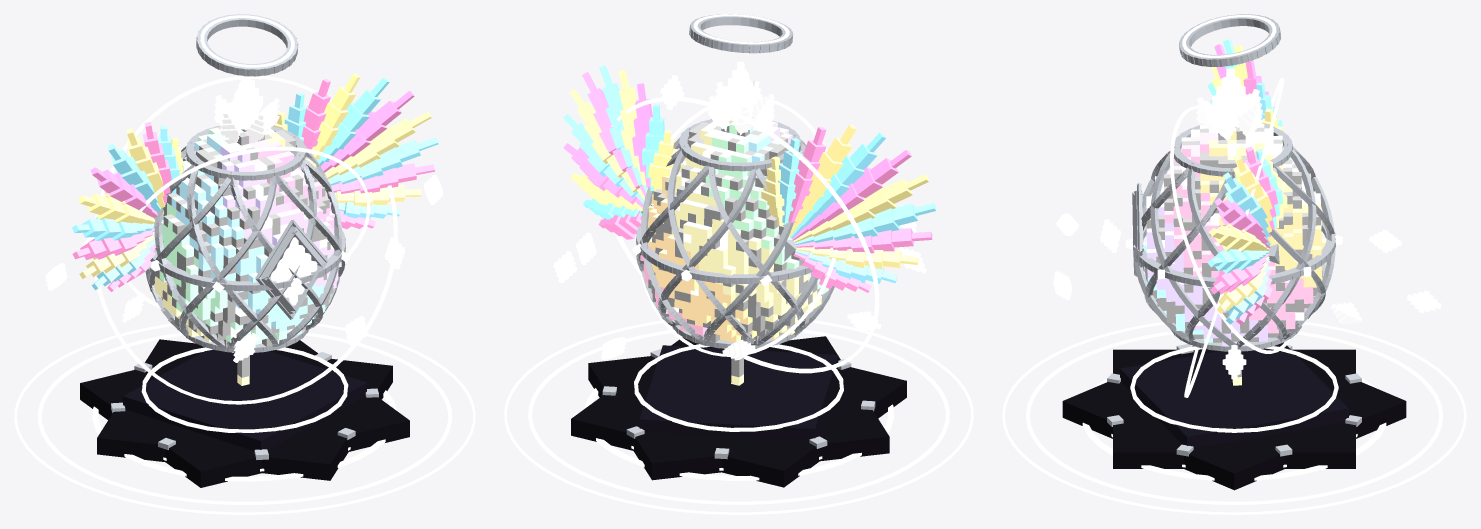
The model's file is egg_secreto_prisma.glb.
The picture shows the model from 3 angles, left to right: view 1: azimuth 30°, elevation 25°; view 2: azimuth 150°, elevation 25°; view 3: azimuth 270°, elevation 25°; orthographic projection.
Parts seen in each view (by area): view 1: root_geo, shell_geo, egg_geo, wing_L_geo, wing_R_geo, floor_rings_geo, emblem_geo, orbit1_geo, halo_geo, crown_geo, orbit2_geo; view 2: root_geo, shell_geo, wing_R_geo, egg_geo, wing_L_geo, floor_rings_geo, orbit1_geo, crown_geo, halo_geo, orbit2_geo; view 3: root_geo, shell_geo, egg_geo, wing_L_geo, floor_rings_geo, crown_geo, halo_geo, wing_R_geo, orbit2_geo, orbit1_geo, emblem_geo, float0_geo.
Boxes of the visible parts, box(x1,y1,x2,y2) form: root_geo: box(80, 339, 409, 487); shell_geo: box(149, 126, 341, 385); egg_geo: box(145, 125, 349, 352); wing_L_geo: box(273, 73, 438, 229); wing_R_geo: box(72, 122, 184, 291); floor_rings_geo: box(14, 323, 475, 514); emblem_geo: box(255, 219, 328, 319); orbit1_geo: box(92, 75, 397, 404); halo_geo: box(196, 14, 298, 76); crown_geo: box(214, 76, 279, 143); orbit2_geo: box(128, 146, 370, 308); root_geo: box(571, 336, 906, 487); shell_geo: box(640, 117, 828, 385); wing_R_geo: box(761, 124, 936, 292); egg_geo: box(632, 119, 834, 348); wing_L_geo: box(563, 65, 676, 239); floor_rings_geo: box(504, 320, 973, 514); orbit1_geo: box(610, 96, 879, 373); crown_geo: box(707, 61, 774, 135); halo_geo: box(689, 14, 793, 53); orbit2_geo: box(636, 97, 837, 356); root_geo: box(1062, 342, 1406, 490); shell_geo: box(1143, 124, 1326, 385); egg_geo: box(1125, 123, 1342, 351); wing_L_geo: box(1207, 146, 1287, 324); floor_rings_geo: box(1002, 322, 1466, 514); crown_geo: box(1196, 67, 1262, 140); halo_geo: box(1179, 14, 1280, 66); wing_R_geo: box(1207, 39, 1282, 130); orbit2_geo: box(1170, 106, 1290, 353); orbit1_geo: box(1184, 78, 1284, 397); emblem_geo: box(1132, 182, 1144, 282); float0_geo: box(1222, 344, 1246, 379).
Bounding box in the file's own units: 10.12 × 9.34 × 10.12.
